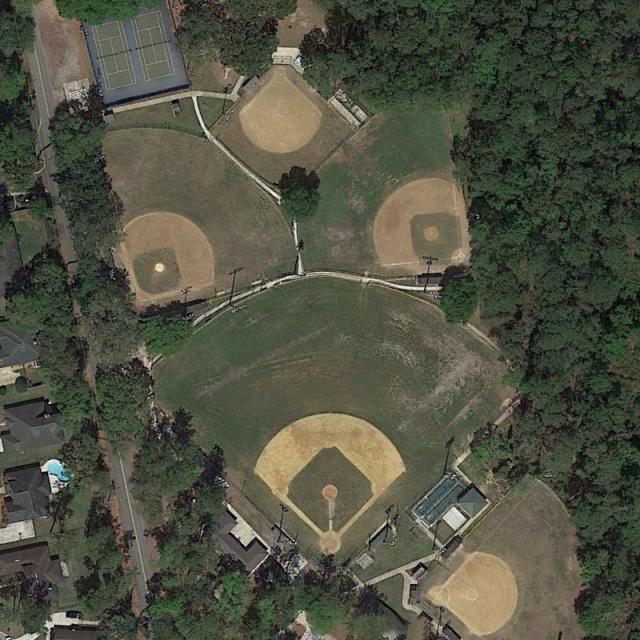vehicle: (65, 609, 82, 618)
